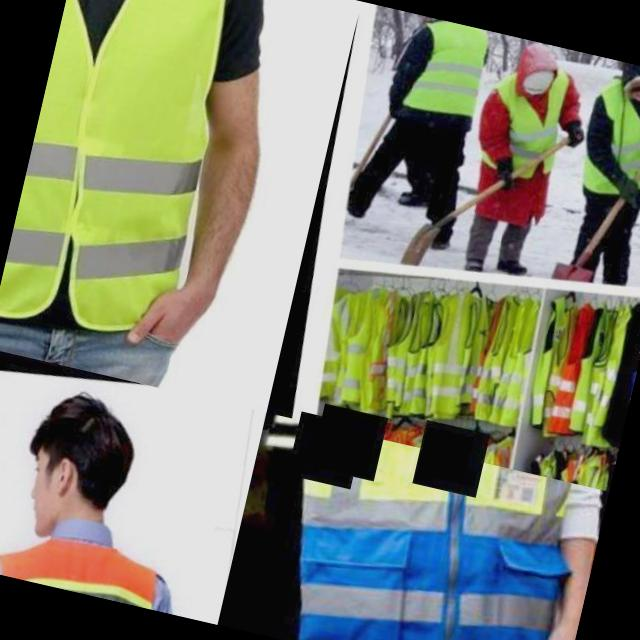vest: (0, 0, 243, 342), (273, 419, 580, 580), (467, 44, 580, 175), (391, 13, 502, 126), (569, 61, 640, 199)
